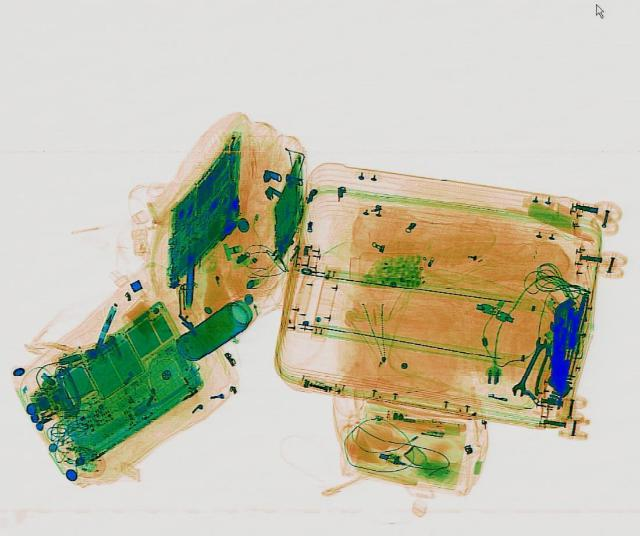Wrench: (508, 334, 550, 396)
